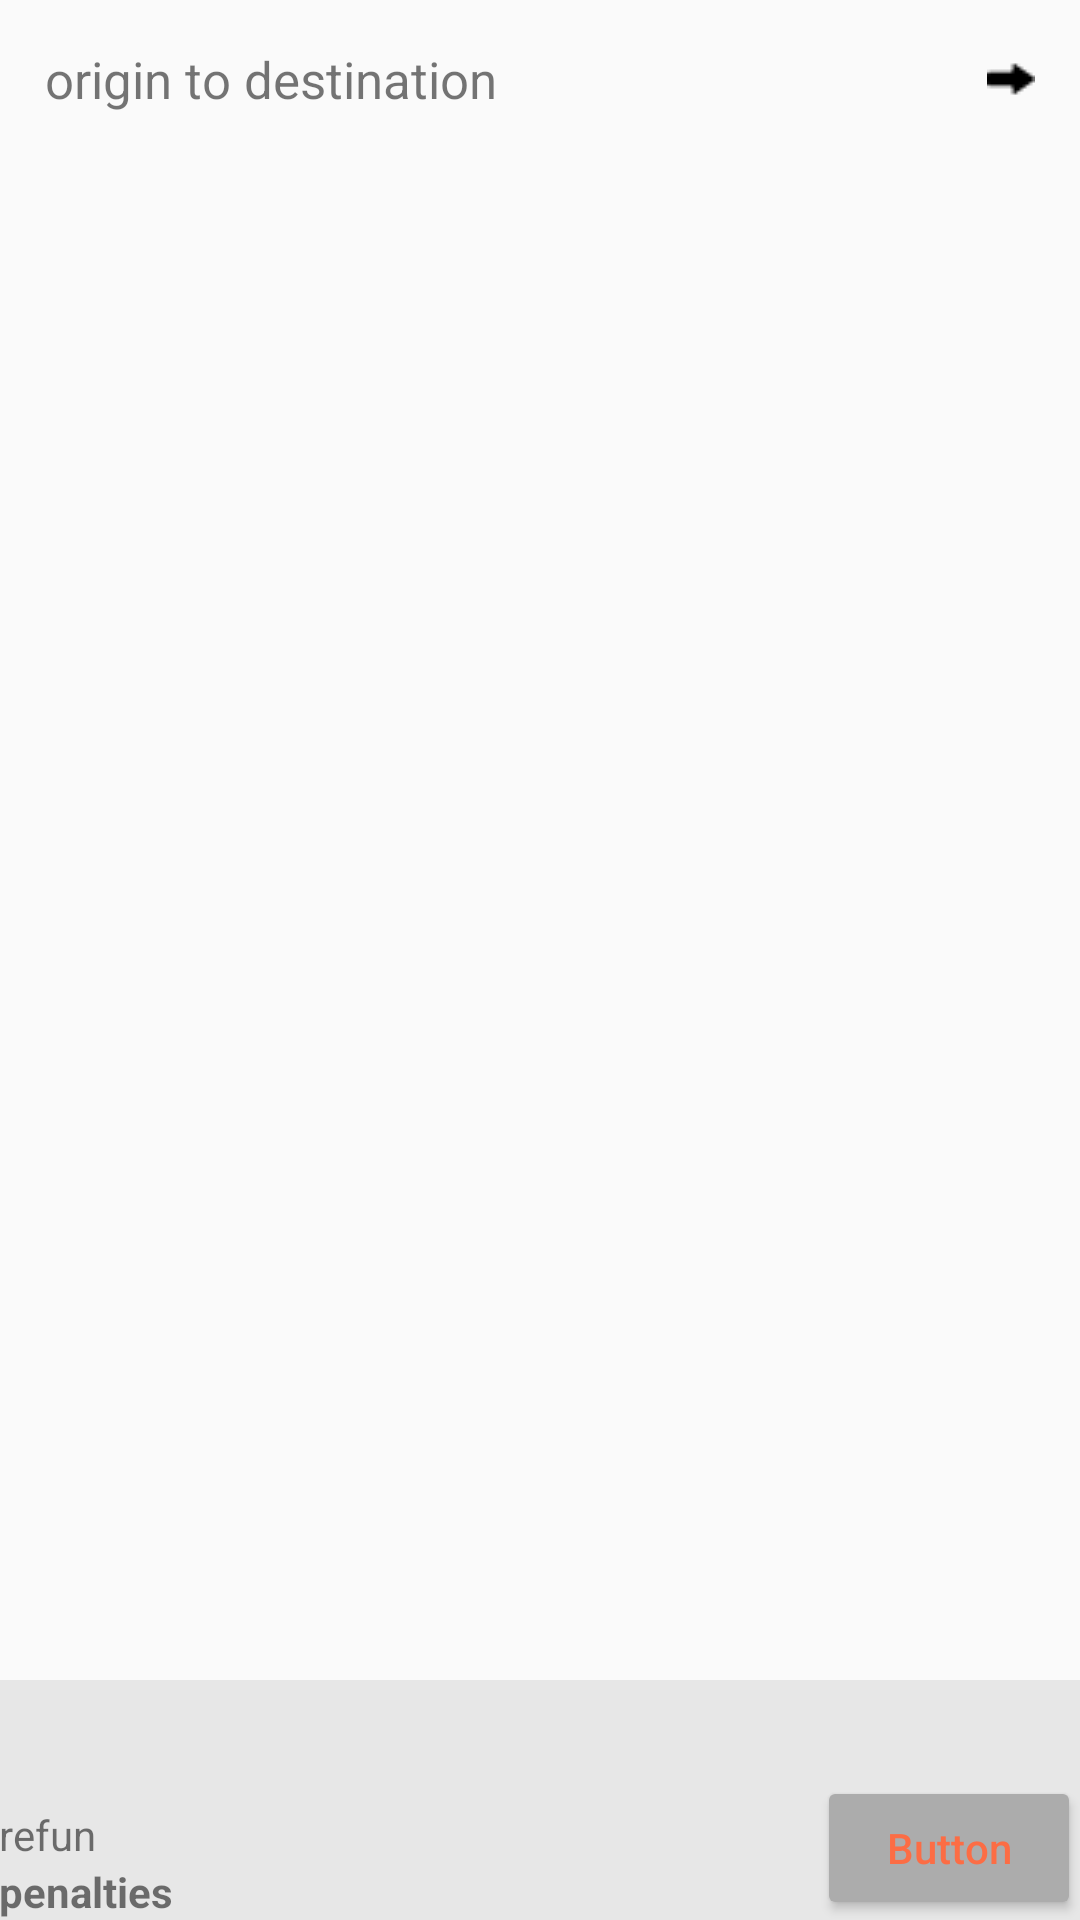

Where to tap for icons on this 1080 x 1920 app screen, as [x,y]:
right pointing arrow: [1011,79]
